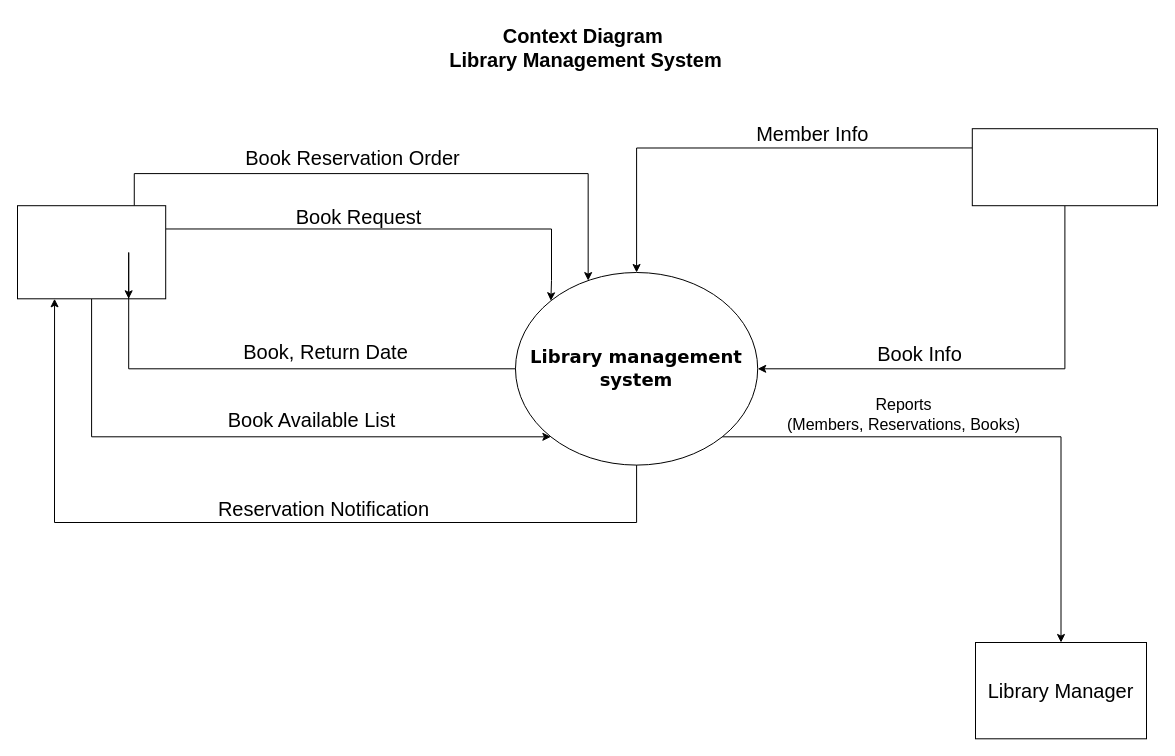
Some shapes in this 1175 by 756 pixel diagram are drawn without their labels. The centre of each missing label's shape, as x and y in pixels:
Librarian: (1064,167)
Library Members: (91,252)
